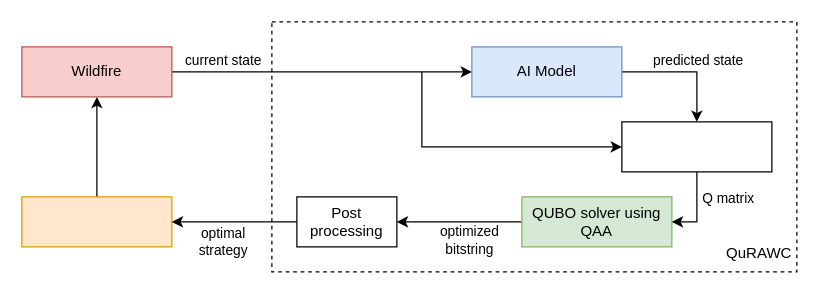
This 819x294 diagram has some shape labels left out. Each missing label, with the centre of its shape:
"Firefighting Organization" goes at point 96,221.
"Q matrix population (cost allocation)" goes at point 696,146.
